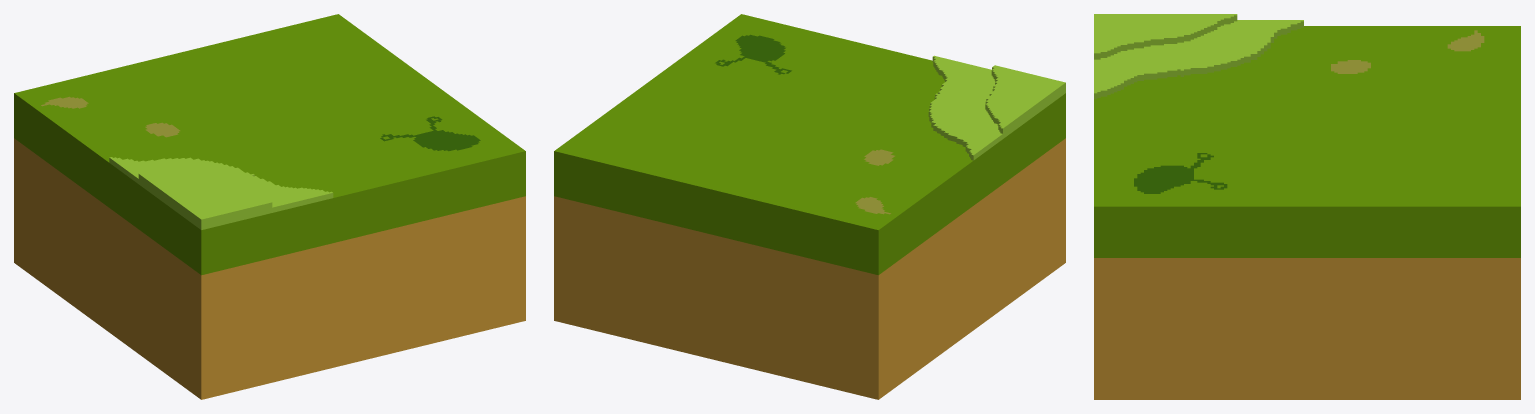
3 views of the same model, side by side, from view 1: azimuth 30°, elevation 25°; view 2: azimuth 150°, elevation 25°; view 3: azimuth 270°, elevation 25° (orthographic). The views are drawn at different scales.
Parts seen in each view (by area): view 1: 10N; view 2: 10N; view 3: 10N.
Boxes of the visible parts, <box> form: 10N: <box>14,14,525,399</box>; 10N: <box>554,14,1065,399</box>; 10N: <box>1094,14,1520,399</box>.
Bounding box in the file's own units: 12.8 × 6.8 × 12.8.
Materials: 1 (1 with a texture image).
